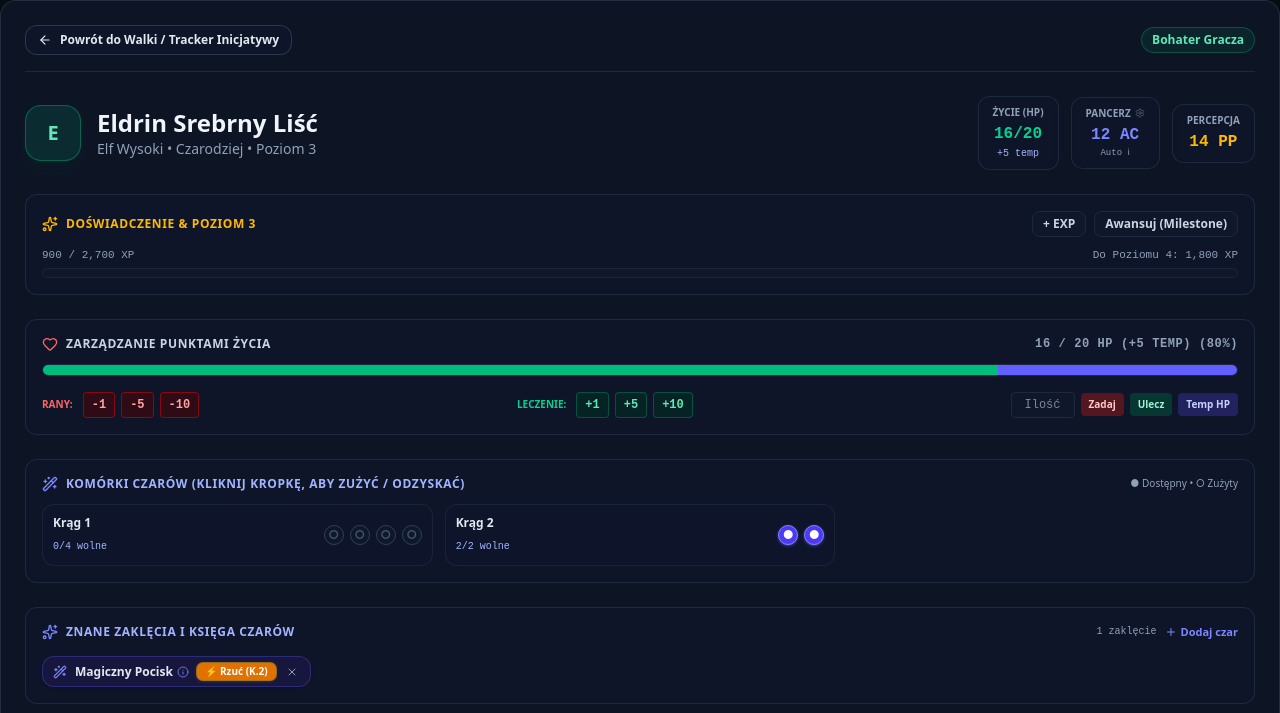
Scenario: CharacterInspectionCard Component (Chunk 3.2) › upcasts a spell using next available higher slot when base slot is exhausted
The width and height of the screenshot is (1280, 713).
Click the button with test id "cast-spell-Magiczny Pocisk".
click(236, 672)  # box [197,663,276,680]
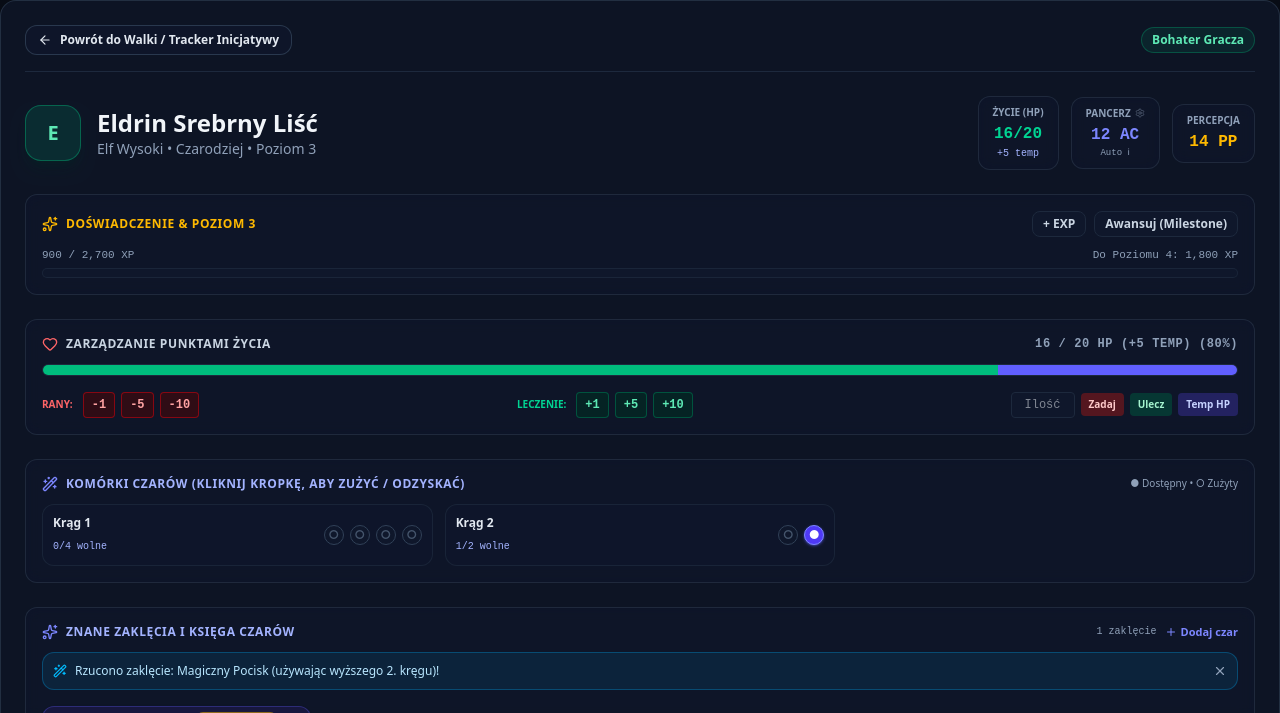
Now the element with test id "spell-cast-feedback" shows "Rzucono zaklęcie: Magiczny Pocisk (używając wyższego 2. kręgu)", box [75,662,439,679]
